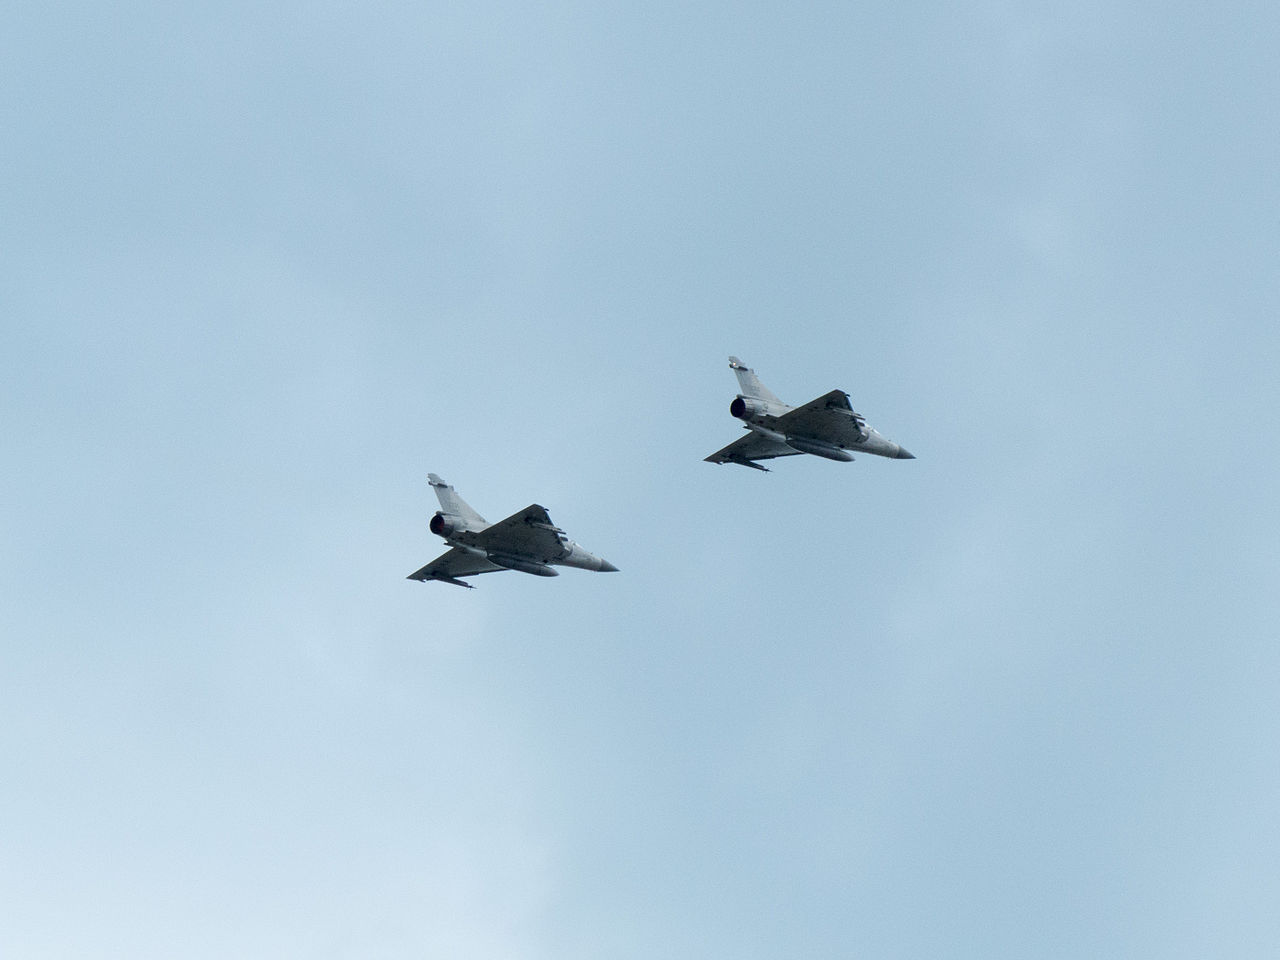Mirage2000: (702, 355, 918, 474), (405, 473, 621, 590)
